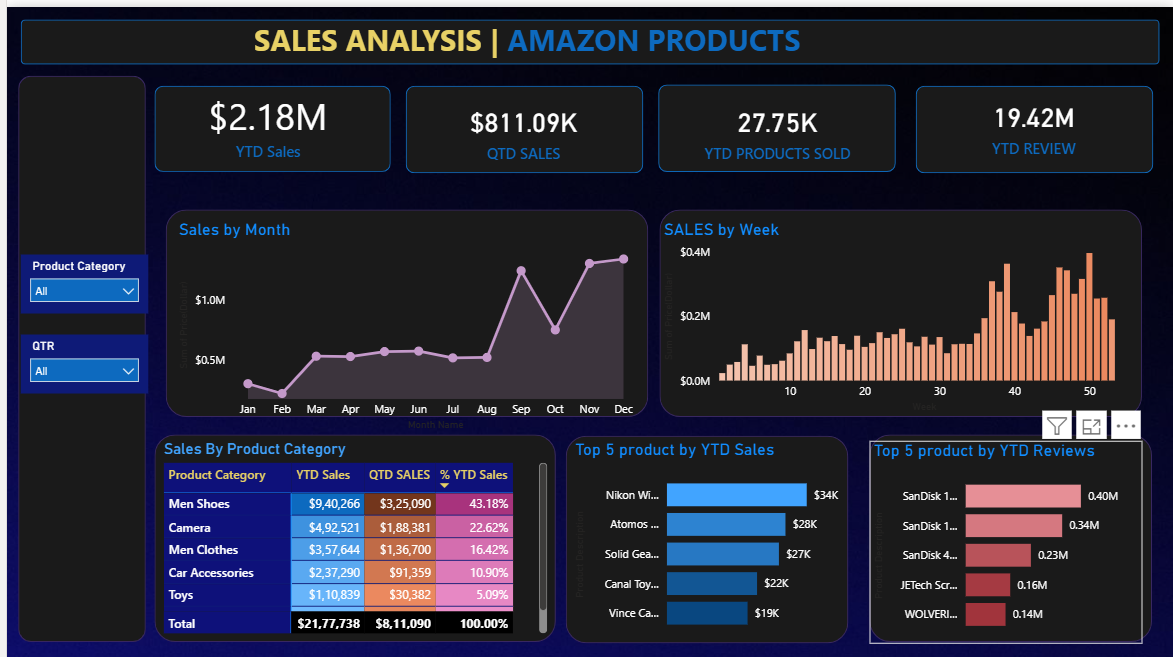

The dashboard page shown, as its layout file describes it:
{"tool":"powerbi","page":{"name":"Page 1","canvas":[1280,720],"ordinal":0},"visuals":[{"type":"shape","box":[12.3,75.5,140,621.6],"z":0},{"type":"shape","box":[161.9,86.6,259.3,94.7],"z":1000},{"type":"card","fields":{"Values":["Amazon_Data.YTD Sales"]},"box":[161.9,82.5,249.7,94.7],"z":2000},{"type":"shape","box":[437.7,86.6,260.7,96.1],"z":3000},{"type":"shape","box":[714.5,85.2,260.7,96.1],"z":4000},{"type":"shape","box":[997.6,86.6,260.7,96.1],"z":5000},{"type":"card","fields":{"Values":["Amazon_Data.QTD SALES"]},"box":[437.7,86.6,259.3,98.8],"z":6000},{"type":"shape","box":[15.1,13.7,1250.1,49.4],"z":7000},{"type":"textbox","box":[266.2,9.6,631.2,57.6],"z":8000},{"type":"card","fields":{"Values":["Amazon_Data.YTD PRODUCTS SOLD"]},"box":[716.3,86.6,259.3,98.8],"z":9000},{"type":"card","fields":{"Values":["Amazon_Data.YTD REVIEW"]},"box":[997.2,75.5,259.3,111.1],"z":10000},{"type":"shape","box":[174.3,222.3,529.7,227.8],"z":11000},{"type":"areaChart","title":"Sales by Month","fields":{"Category":["Date Table.Month Name"],"Y":["Sum(Amazon_Data.Price(Dollar))"]},"box":[183.9,233.3,513.2,236],"z":12000},{"type":"shape","box":[716.3,222.3,529.7,227.8],"z":13000},{"type":"columnChart","title":"SALES by Week","fields":{"Category":["Date Table.Week"],"Y":["Sum(Amazon_Data.Price(Dollar))"]},"box":[716.3,233.3,525.6,216.8],"z":14000},{"type":"shape","box":[161.9,469.3,440.5,227.8],"z":15000},{"type":"pivotTable","title":"Sales By Product Category","fields":{"Rows":["Amazon_Data.Product Category"],"Values":["Amazon_Data.YTD Sales1","Amazon_Data.QTD SALES","Amazon_Data.YTD Sales"]},"box":[167.4,474.8,430.9,218.2],"z":16000},{"type":"shape","box":[613.4,470.7,310.1,227.8],"z":17000},{"type":"shape","box":[946.8,469.3,310.1,227.8],"z":18000},{"type":"clusteredBarChart","title":"Top 5 product by YTD Sales","fields":{"Category":["Amazon_Data.Product Description"],"Y":["Amazon_Data.YTD Sales"]},"box":[618.9,474.8,299.1,222.3],"z":18001},{"type":"clusteredBarChart","title":"Top 5 product by YTD Reviews","fields":{"Category":["Amazon_Data.Product Description"],"Y":["Amazon_Data.YTD REVIEW"]},"box":[946.8,476.2,299.1,222.3],"z":18002},{"type":"slicer","fields":{"Values":["Amazon_Data.Product Category"]},"box":[15.1,271.7,140,64.5],"z":18003},{"type":"slicer","fields":{"Values":["Date Table.QTR"]},"box":[15.1,359.5,140,64.5],"z":18004}]}

Visuals, with their boxes in screenshot pixels (x1, y1, x2, y2), scaled from the page's 1280x720 canvas onto the 1173x657 screenshot:
shape: {"x1": 11, "y1": 69, "x2": 140, "y2": 636}
shape: {"x1": 148, "y1": 79, "x2": 386, "y2": 165}
card - Amazon_Data.YTD Sales: {"x1": 148, "y1": 75, "x2": 377, "y2": 162}
shape: {"x1": 401, "y1": 79, "x2": 640, "y2": 167}
shape: {"x1": 655, "y1": 78, "x2": 894, "y2": 165}
shape: {"x1": 914, "y1": 79, "x2": 1153, "y2": 167}
card - Amazon_Data.QTD SALES: {"x1": 401, "y1": 79, "x2": 639, "y2": 169}
shape: {"x1": 14, "y1": 13, "x2": 1159, "y2": 58}
textbox: {"x1": 244, "y1": 9, "x2": 822, "y2": 61}
card - Amazon_Data.YTD PRODUCTS SOLD: {"x1": 656, "y1": 79, "x2": 894, "y2": 169}
card - Amazon_Data.YTD REVIEW: {"x1": 914, "y1": 69, "x2": 1151, "y2": 170}
shape: {"x1": 160, "y1": 203, "x2": 645, "y2": 411}
"Sales by Month" areaChart: {"x1": 169, "y1": 213, "x2": 639, "y2": 428}
shape: {"x1": 656, "y1": 203, "x2": 1142, "y2": 411}
"SALES by Week" columnChart: {"x1": 656, "y1": 213, "x2": 1138, "y2": 411}
shape: {"x1": 148, "y1": 428, "x2": 552, "y2": 636}
"Sales By Product Category" pivotTable: {"x1": 153, "y1": 433, "x2": 548, "y2": 632}
shape: {"x1": 562, "y1": 430, "x2": 846, "y2": 637}
shape: {"x1": 868, "y1": 428, "x2": 1152, "y2": 636}
"Top 5 product by YTD Sales" clusteredBarChart: {"x1": 567, "y1": 433, "x2": 841, "y2": 636}
"Top 5 product by YTD Reviews" clusteredBarChart: {"x1": 868, "y1": 435, "x2": 1142, "y2": 637}
slicer - Amazon_Data.Product Category: {"x1": 14, "y1": 248, "x2": 142, "y2": 307}
slicer - Date Table.QTR: {"x1": 14, "y1": 328, "x2": 142, "y2": 387}
